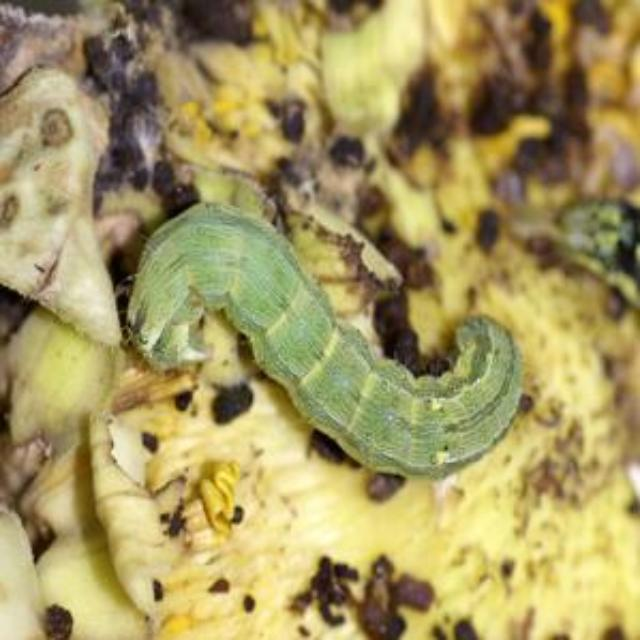Cotton bollworm: (123, 165, 542, 491)
